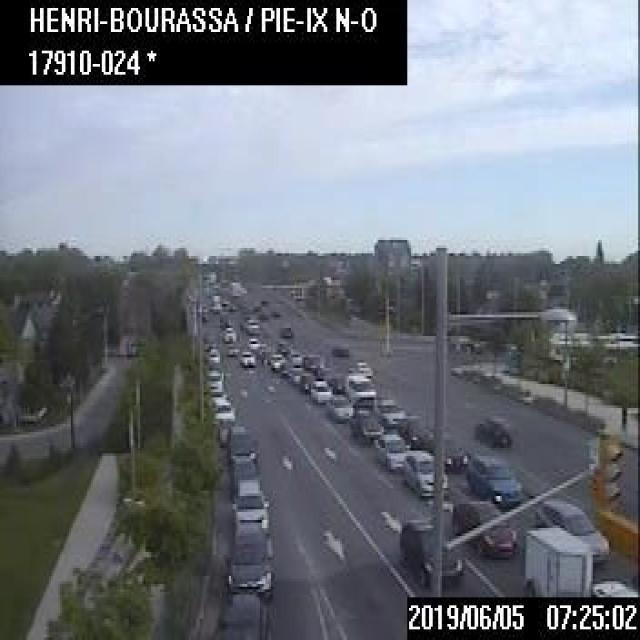vehicle: (524, 524, 590, 595), (536, 497, 607, 560), (398, 518, 461, 585), (451, 497, 515, 554), (222, 529, 271, 596), (466, 454, 519, 506), (214, 592, 266, 637), (402, 448, 446, 495), (231, 488, 268, 528), (373, 431, 409, 469), (396, 414, 433, 447), (472, 416, 512, 446), (227, 423, 258, 460), (348, 408, 382, 438), (230, 454, 258, 490), (374, 396, 406, 425), (443, 435, 466, 470), (345, 372, 375, 398), (590, 578, 638, 594), (211, 417, 237, 444), (325, 393, 351, 420), (212, 398, 234, 419), (309, 379, 330, 401), (205, 368, 222, 390), (347, 359, 371, 374), (206, 387, 226, 401), (298, 371, 314, 388), (237, 349, 254, 364), (288, 366, 303, 382), (268, 352, 284, 367), (330, 343, 348, 355), (244, 317, 258, 332), (287, 349, 301, 364), (222, 325, 235, 340), (210, 293, 220, 311), (218, 311, 230, 326), (207, 346, 219, 361), (246, 336, 259, 348), (276, 341, 288, 352), (279, 325, 290, 335), (252, 304, 260, 310), (271, 310, 279, 316), (258, 312, 266, 318)
